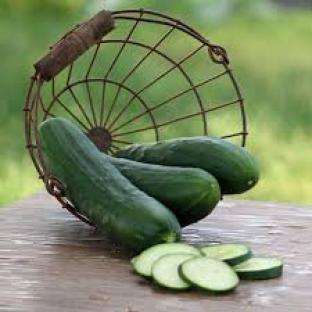Cucumber: (39, 118, 180, 249), (116, 136, 259, 194), (109, 157, 220, 226), (134, 243, 201, 277), (179, 257, 238, 292), (152, 254, 194, 289), (233, 257, 282, 280), (202, 245, 252, 266)
